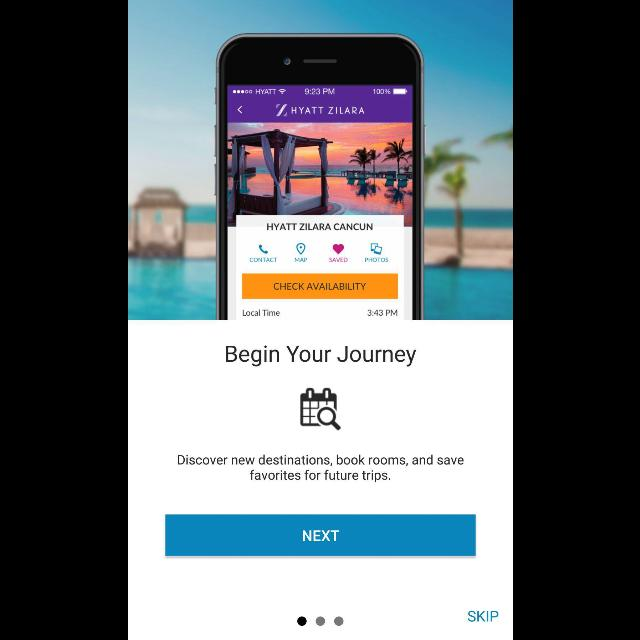icon: (299, 387, 341, 431)
image: (128, 0, 510, 320)
pageindicator: (296, 616, 344, 626)
text: (176, 454, 464, 484), (224, 343, 416, 367), (467, 610, 499, 622)
textbutton: (165, 514, 475, 556)
